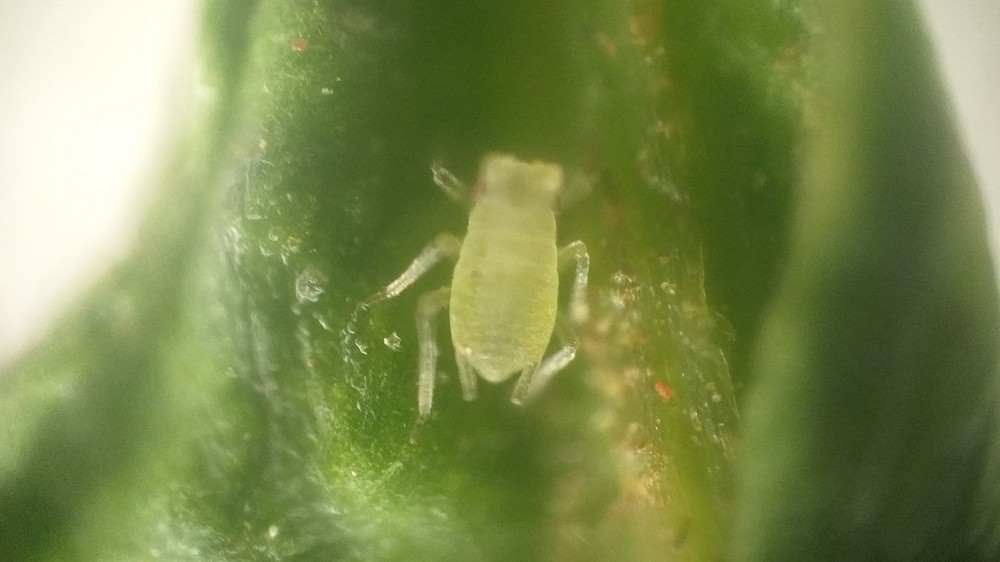Pulgon: (352, 126, 647, 437)
